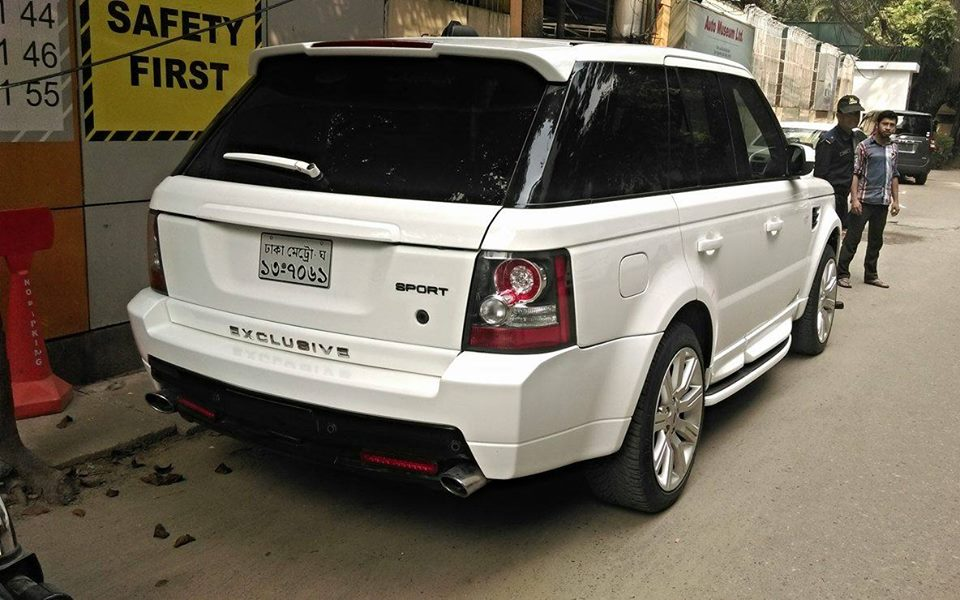registration_plate: (258, 232, 333, 289)
